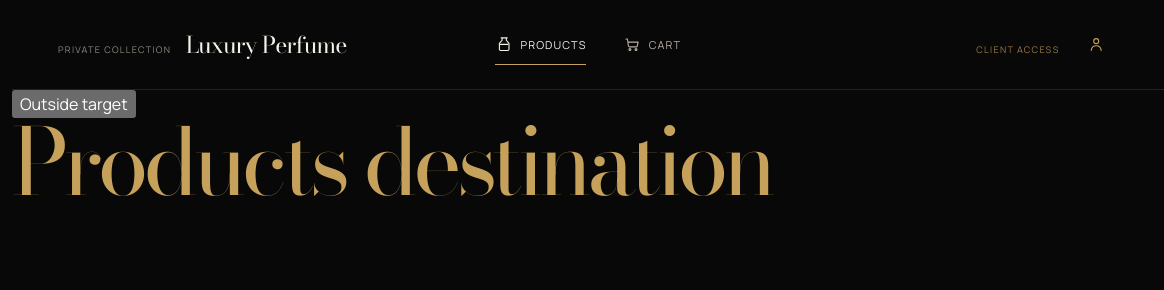
Test: toggles on repeated taps
Click the button named "Account menu" at (1096, 44), box [1074, 20, 1118, 68]
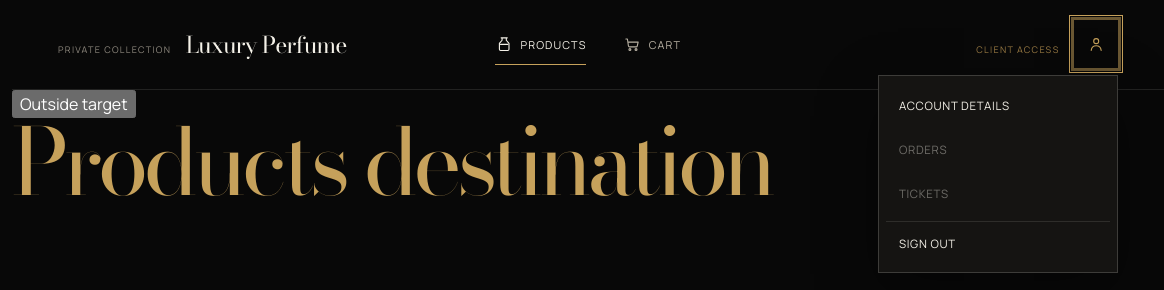
Expected: the menu named "Account menu" is shown, [878, 76, 1118, 274]
Click the button named "Account menu" at (1096, 44), box [1074, 20, 1118, 68]
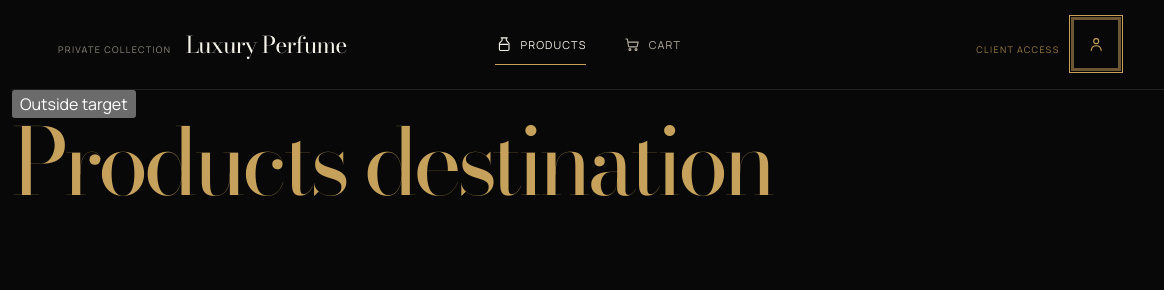
Expected: the menu is gone
